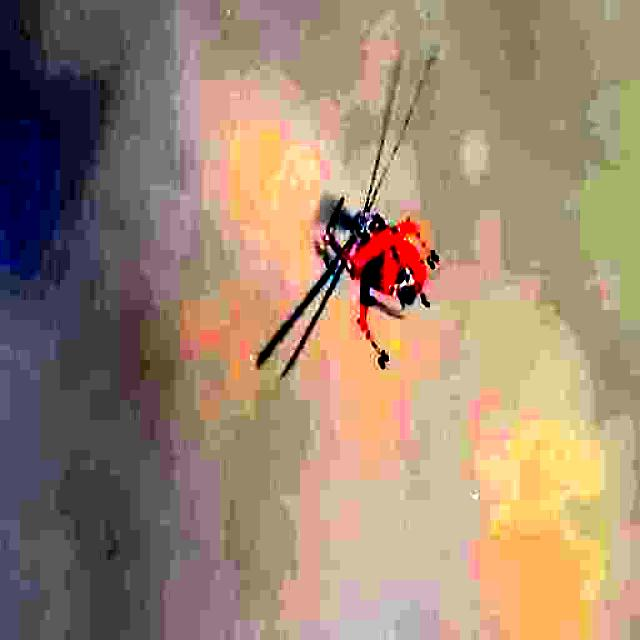drone: (252, 29, 445, 385)
